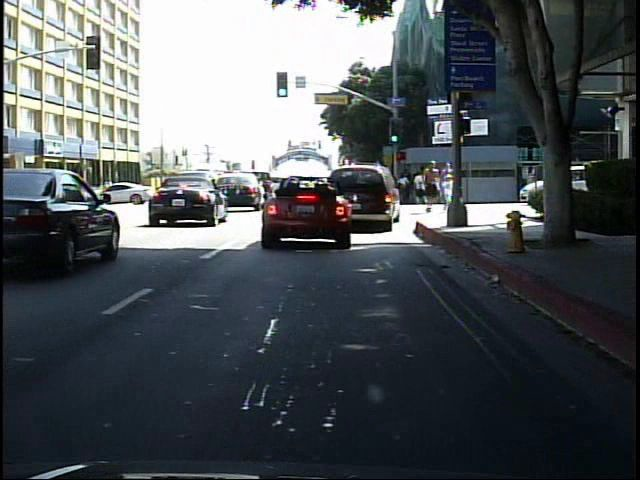person: (421, 159, 442, 216), (437, 173, 452, 208), (101, 176, 119, 204)
